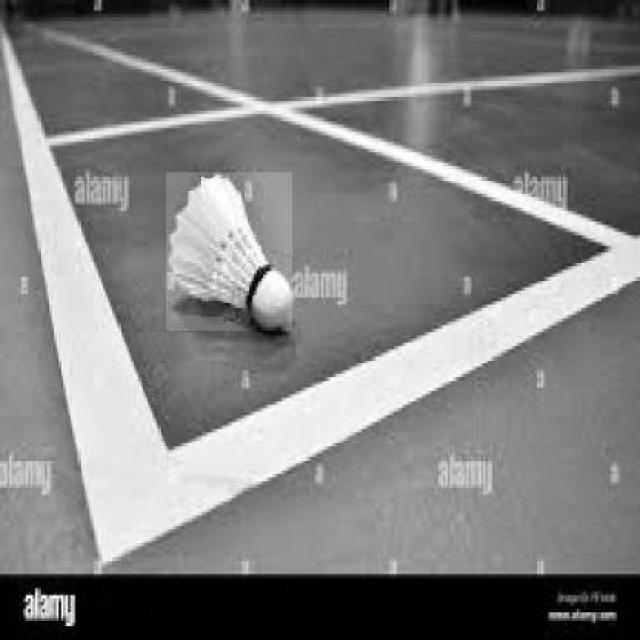Shuttlecock: (166, 171, 291, 329)
